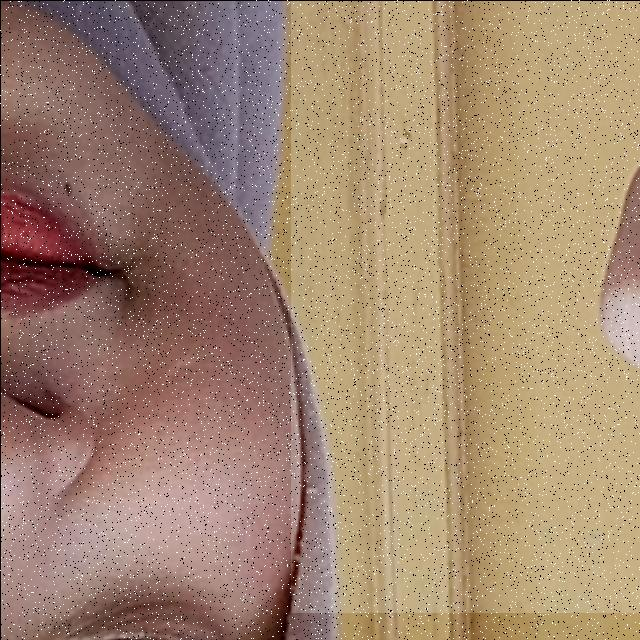baik: (290, 0, 640, 612)
